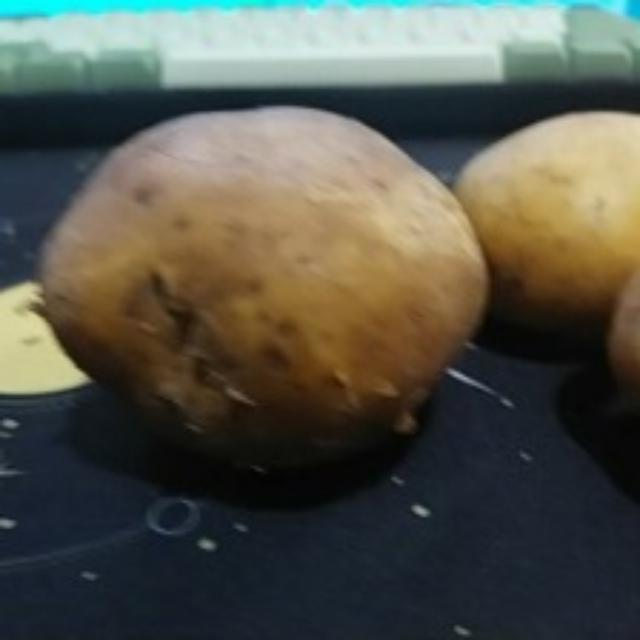Damaged potato: (12, 102, 496, 480)
Potato: (456, 102, 640, 326)
